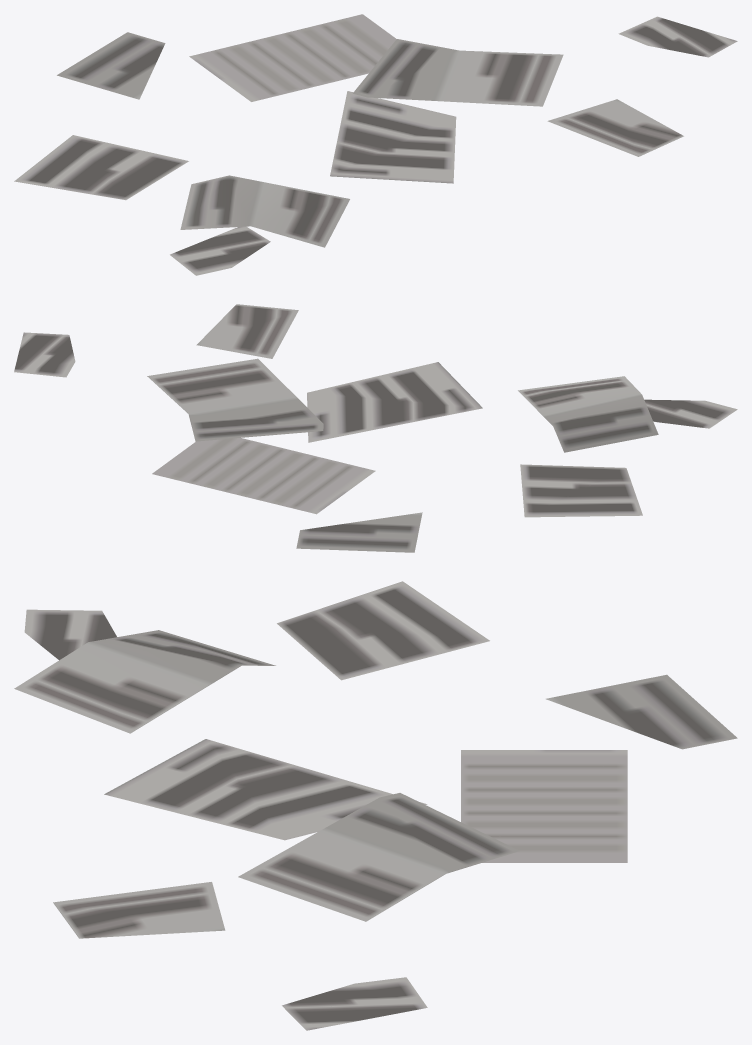
Rendered from SM_Prop_Rubbish_Papers_01.glb.
3 renders of one model, top to bottom at view 1: azimuth 30°, elevation 25°; view 2: azimuth 150°, elevation 25°; view 3: azimuth 270°, elevation 25°, orthographic. The views are drawn at different scales.
Parts seen in each view (by area): view 1: SM_Prop_Rubbish_Papers_01; view 2: SM_Prop_Rubbish_Papers_01; view 3: SM_Prop_Rubbish_Papers_01.
Part boxes in pixels (box(x1,y1,x2,y2)): SM_Prop_Rubbish_Papers_01: box(14, 14, 737, 275); SM_Prop_Rubbish_Papers_01: box(14, 304, 737, 552); SM_Prop_Rubbish_Papers_01: box(14, 581, 737, 1030).
Bounding box in the file's own units: 1.19 × 0.0224 × 0.8122.
Materials: 1 (1 with a texture image).
